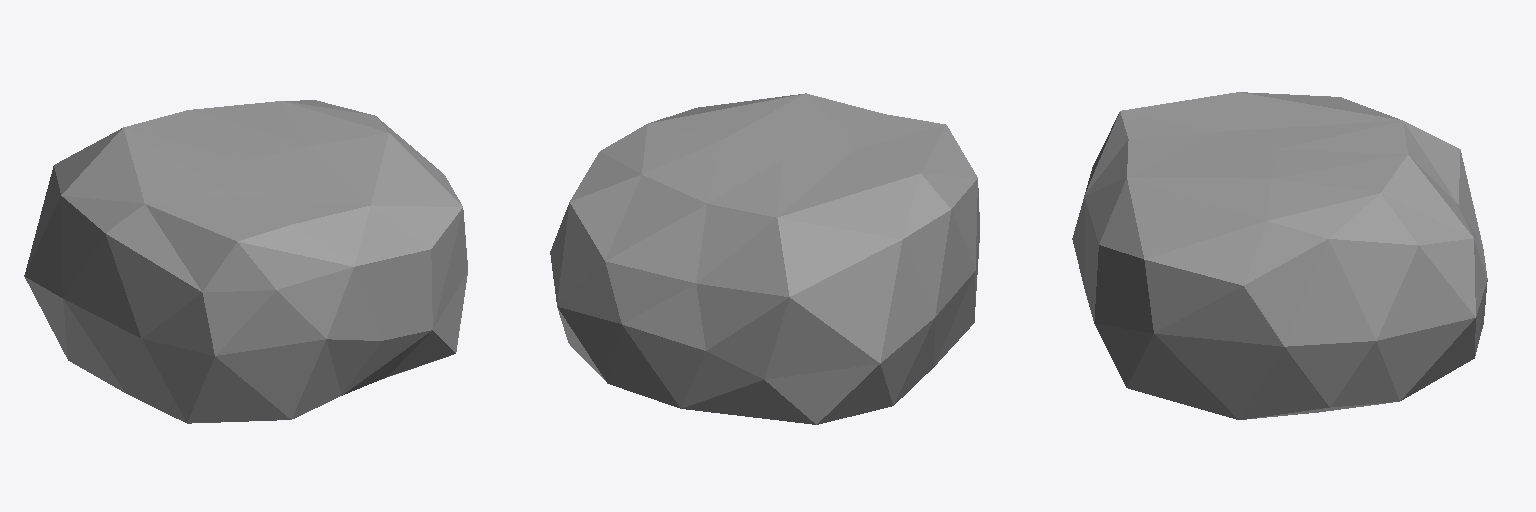
File: nodes_nature_cobble2.obj
3 renders of one model, left to right at view 1: azimuth 30°, elevation 25°; view 2: azimuth 150°, elevation 25°; view 3: azimuth 270°, elevation 25°, orthographic.
Visible parts, largest first — view 1: Icosphere.001_Icosphere.001; view 2: Icosphere.001_Icosphere.001; view 3: Icosphere.001_Icosphere.001.
Part boxes in pixels (left/top/right/bottom): Icosphere.001_Icosphere.001: left=24, top=100, right=467, bottom=423; Icosphere.001_Icosphere.001: left=550, top=93, right=979, bottom=424; Icosphere.001_Icosphere.001: left=1072, top=92, right=1487, bottom=419.
Size of the model in its own units: 0.6501 by 0.3496 by 0.6496.